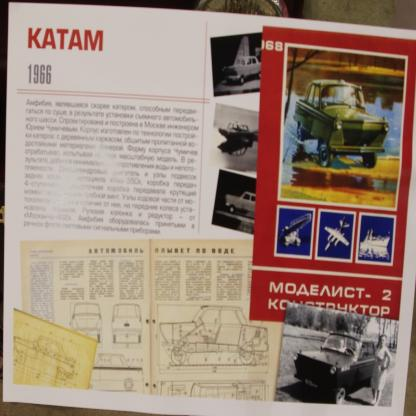Car: (294, 81, 389, 168), (160, 305, 270, 366), (294, 329, 378, 403), (14, 336, 77, 381), (89, 355, 145, 389), (113, 305, 144, 345), (223, 56, 262, 86), (72, 302, 104, 338), (226, 193, 256, 213)
